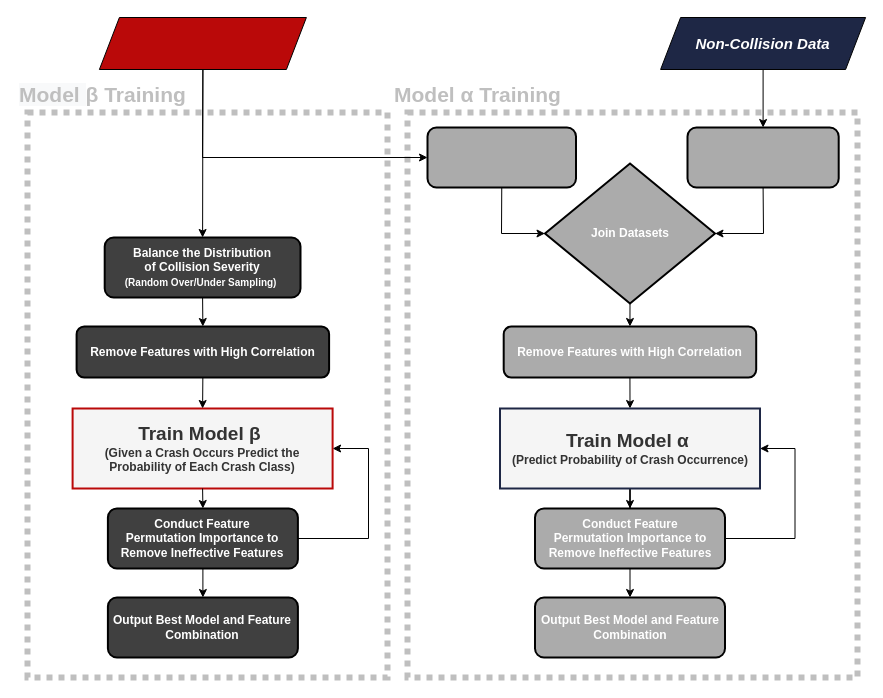
The diagram is 883 pixels wide and 698 high, and some of its shapes have lost their labels. The box of each missing label's shape, as (x1, y1, x2, y2) in pixels:
Collision Data: (98, 16, 306, 70)
Create Label Column of Zero Values (Denoting Non-Crash Event): (686, 126, 839, 188)
Replace Crash Severity Label with Bool (One) Value: (426, 126, 576, 188)
